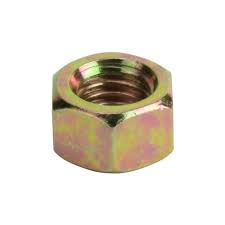Thread: (62, 55, 162, 110)
